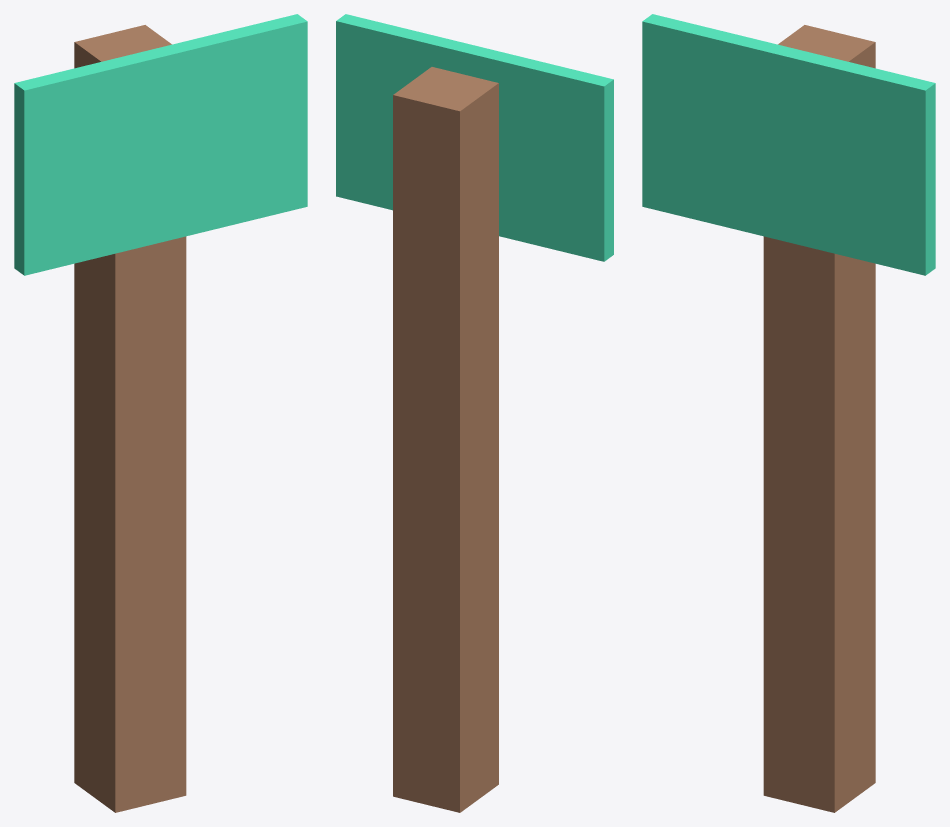
File: learning-kiosk.glb
3 renders of one model, left to right at view 1: azimuth 30°, elevation 25°; view 2: azimuth 150°, elevation 25°; view 3: azimuth 330°, elevation 25°, orthographic. The views are drawn at different scales.
Parts seen in each view (by area): view 1: LearningKiosk_Post, LearningKiosk_Screen; view 2: LearningKiosk_Post, LearningKiosk_Screen; view 3: LearningKiosk_Post, LearningKiosk_Screen.
Boxes of the visible parts, x1,y1,x2,y2 form: LearningKiosk_Post: (74,25,186,812); LearningKiosk_Screen: (14,14,307,275); LearningKiosk_Post: (393,67,498,812); LearningKiosk_Screen: (336,14,613,261); LearningKiosk_Post: (763,25,875,812); LearningKiosk_Screen: (642,14,935,275).
Size of the model in its own units: 0.8 by 2.05 by 0.275.
